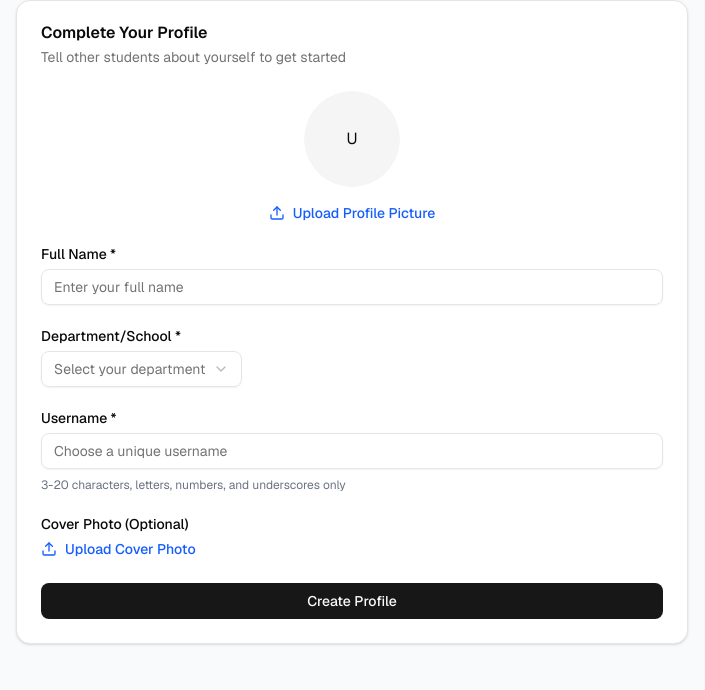
Test: ProfileForm › Profile Creation › checks username availability
Type "testuser" into the field labelled "Username *" at (352, 451), box [41,433,663,469]
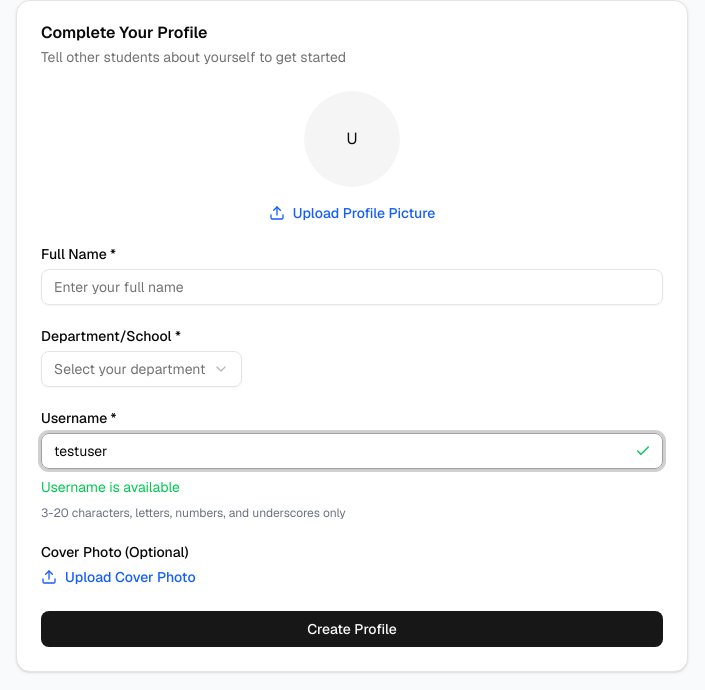
Expected: the text "Username is available" is shown, [41,478,180,496]
